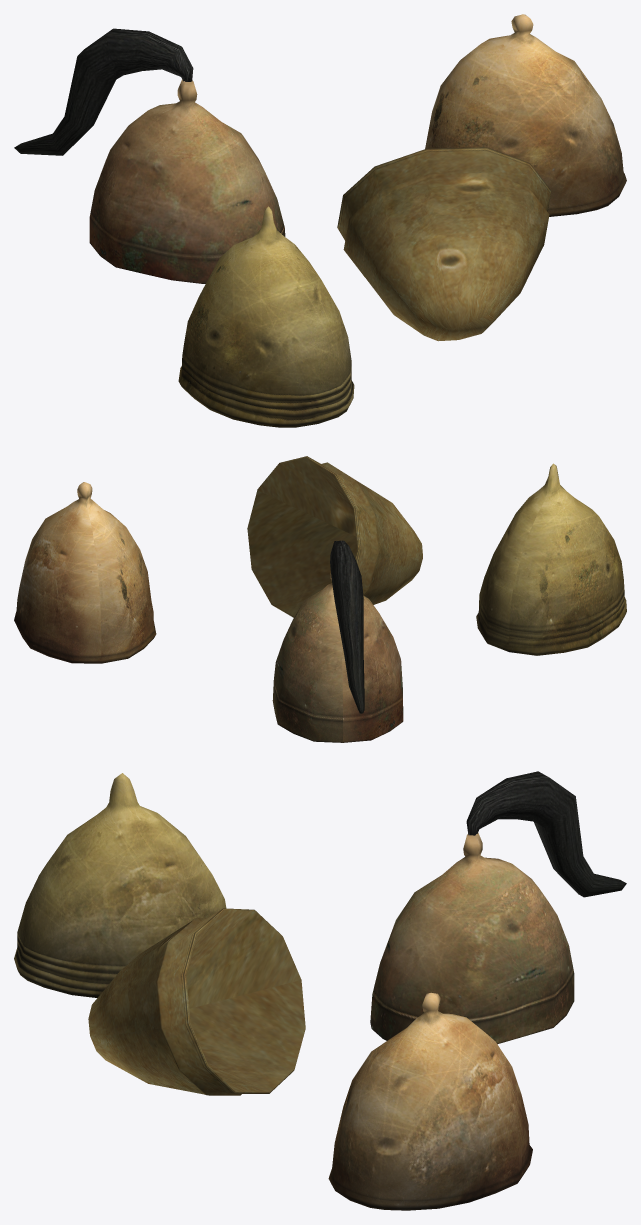
The model's file is helmets.FBX.
The picture shows the model from 3 angles, top to bottom: view 1: azimuth 30°, elevation 25°; view 2: azimuth 150°, elevation 25°; view 3: azimuth 270°, elevation 25°; orthographic projection. The views are drawn at different scales.
Visible parts, largest first — view 1: Helmet_01, Helmet_02, Helmet_04, Helmet_03; view 2: Helmet_04, Helmet_03, Helmet_02, Helmet_01; view 3: Helmet_01, Helmet_03, Helmet_02, Helmet_04.
Boxes of the visible parts, <box> form: Helmet_01: <box>14,28,285,283</box>; Helmet_02: <box>337,147,551,341</box>; Helmet_04: <box>178,206,354,427</box>; Helmet_03: <box>425,14,626,216</box>; Helmet_04: <box>476,463,626,655</box>; Helmet_03: <box>14,482,156,663</box>; Helmet_02: <box>247,456,422,617</box>; Helmet_01: <box>272,540,403,742</box>; Helmet_01: <box>370,771,626,1044</box>; Helmet_03: <box>328,992,532,1210</box>; Helmet_02: <box>88,908,305,1095</box>; Helmet_04: <box>14,773,226,997</box>.
Bounding box in the file's own units: 19.65 × 7.22 × 17.96.
